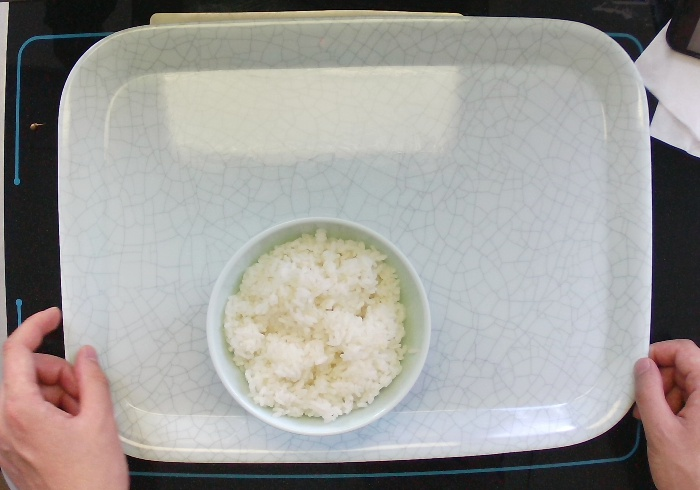JYsf-Fan_Wan: (203, 213, 435, 438)
